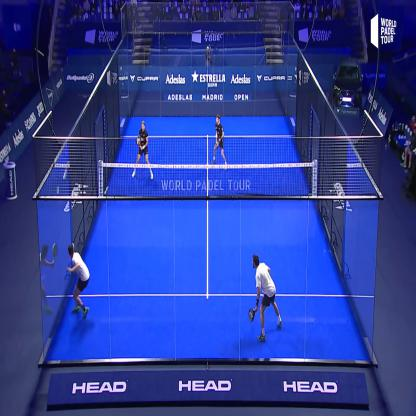ball: (102, 183, 110, 199)
